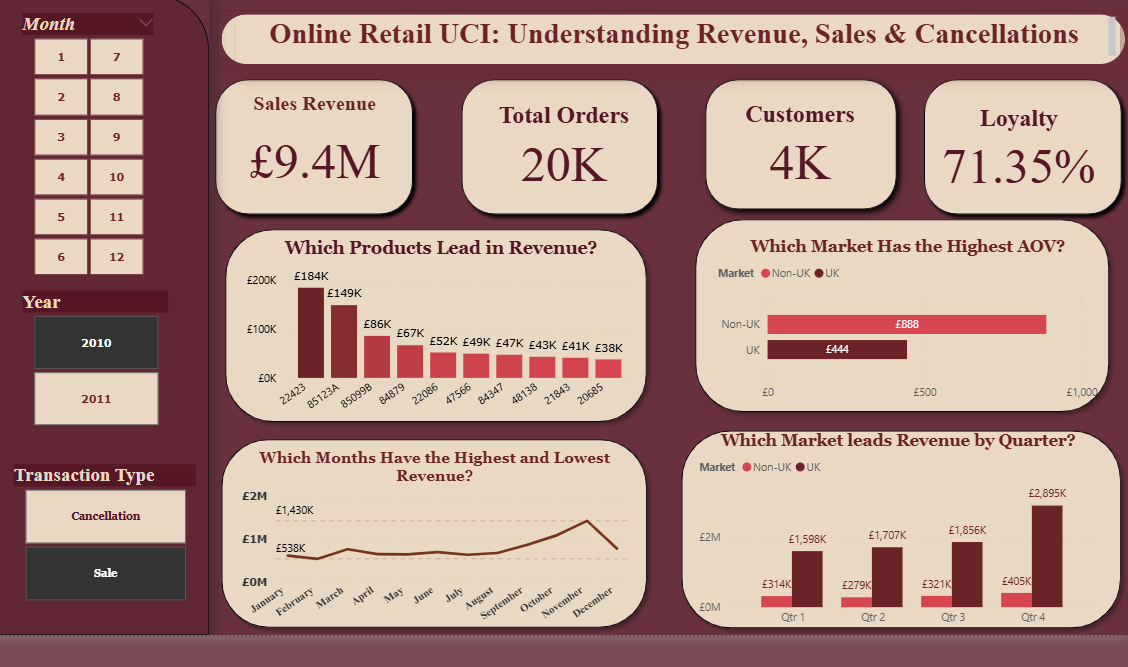

Layout of this report page (visuals, bound fields, positions):
{"tool":"powerbi","page":{"name":"Page 1","canvas":[1280,720],"ordinal":0},"visuals":[{"type":"shape","box":[254.4,16.9,1025.9,66.1],"z":0},{"type":"shape","box":[254.4,254.4,491.9,234.7],"z":1000},{"type":"shape","box":[768,480.4,512,240.2],"z":2000},{"type":"shape","box":[520,85.7,238.9,170],"z":3000},{"type":"shape","box":[791.2,82.9,238.9,170],"z":4000},{"type":"shape","box":[243.1,85.7,240.3,170],"z":5000},{"type":"shape","box":[0,0,245.1,720],"z":6000},{"type":"cardVisual","fields":{"Data":["sales online_retail.revenue"]},"box":[238.9,109.6,250.2,127.9],"z":7000},{"type":"slicer","fields":{"Values":["sales online_retail.Month"]},"box":[22.5,15.5,172.9,306.4],"z":8000},{"type":"slicer","fields":{"Values":["sales online_retail.Year"]},"box":[22.5,327.4,189.7,163],"z":9000},{"type":"slicer","fields":{"Values":["sales online_retail.Transaction Type"]},"box":[12.6,522.8,230.5,164.4],"z":10000},{"type":"cardVisual","fields":{"Data":["sales online_retail.Total Orders"]},"box":[520,104,248.7,127.9],"z":11000},{"type":"cardVisual","fields":{"Data":["sales online_retail.Customers"]},"box":[785.6,102.6,248.7,129.3],"z":12000},{"type":"columnChart","title":"Which Products Lead in Revenue?","fields":{"Category":["sales online_retail.StockCode"],"Y":["sales online_retail.Top 5 Dynamic Revenue"]},"box":[282.5,272.6,446.9,215],"z":13000},{"type":"shape","box":[1040,85.7,240.3,170],"z":14000},{"type":"cardVisual","fields":{"Data":["sales online_retail.Repeat Customer Rate"]},"box":[1031.5,106.8,248.7,130.7],"z":15000},{"type":"shape","box":[250.7,491,496.2,229.7],"z":16000},{"type":"lineChart","title":"Which Months Have the Highest and Lowest Revenue?","fields":{"Y":["sales online_retail.revenue"],"Category":["sales online_retail.InvoiceDate.Variation.Date Hierarchy.Month"]},"box":[275.3,510.2,447.1,208.7],"z":17000},{"type":"shape","box":[782.8,243.1,483.4,234.7],"z":18000},{"type":"barChart","title":"Which Market Has the Highest AOV?","fields":{"Category":["sales online_retail.Market"],"Y":["sales online_retail.AOV"],"Series":["sales online_retail.Market"]},"box":[812.3,272.6,437.1,192.5],"z":19000},{"type":"clusteredColumnChart","title":"Which Market leads Revenue by Quarter?","fields":{"Y":["sales online_retail.revenue"],"Series":["sales online_retail.Market"],"Category":["sales online_retail.InvoiceDate.Variation.Date Hierarchy.Quarter"]},"box":[790.8,491,457.6,227.9],"z":20000},{"type":"textbox","box":[275.3,19.3,994.2,66.6],"z":21000}]}

Visuals, with their boxes on the page's 1280x720 design canvas (x1, y1, x2, y2). These are canvas units, not pixel positions in the 1128x667 screenshot, which may show the page scaled, cropped or inside an application window:
shape: 254:17:1280:83
shape: 254:254:746:489
shape: 768:480:1280:721
shape: 520:86:759:256
shape: 791:83:1030:253
shape: 243:86:483:256
shape: 0:0:245:720
cardVisual - sales online_retail.revenue: 239:110:489:238
slicer - sales online_retail.Month: 22:16:195:322
slicer - sales online_retail.Year: 22:327:212:490
slicer - sales online_retail.Transaction Type: 13:523:243:687
cardVisual - sales online_retail.Total Orders: 520:104:769:232
cardVisual - sales online_retail.Customers: 786:103:1034:232
"Which Products Lead in Revenue?" columnChart: 282:273:729:488
shape: 1040:86:1280:256
cardVisual - sales online_retail.Repeat Customer Rate: 1032:107:1280:238
shape: 251:491:747:721
"Which Months Have the Highest and Lowest Revenue?" lineChart: 275:510:722:719
shape: 783:243:1266:478
"Which Market Has the Highest AOV?" barChart: 812:273:1249:465
"Which Market leads Revenue by Quarter?" clusteredColumnChart: 791:491:1248:719
textbox: 275:19:1270:86
